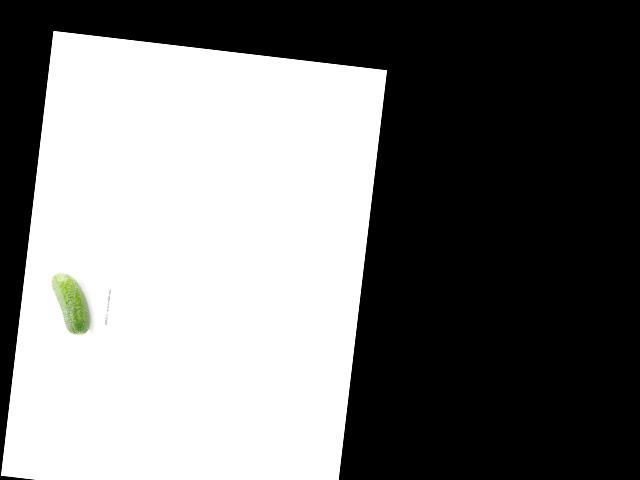cucumber: (45, 272, 95, 336)
